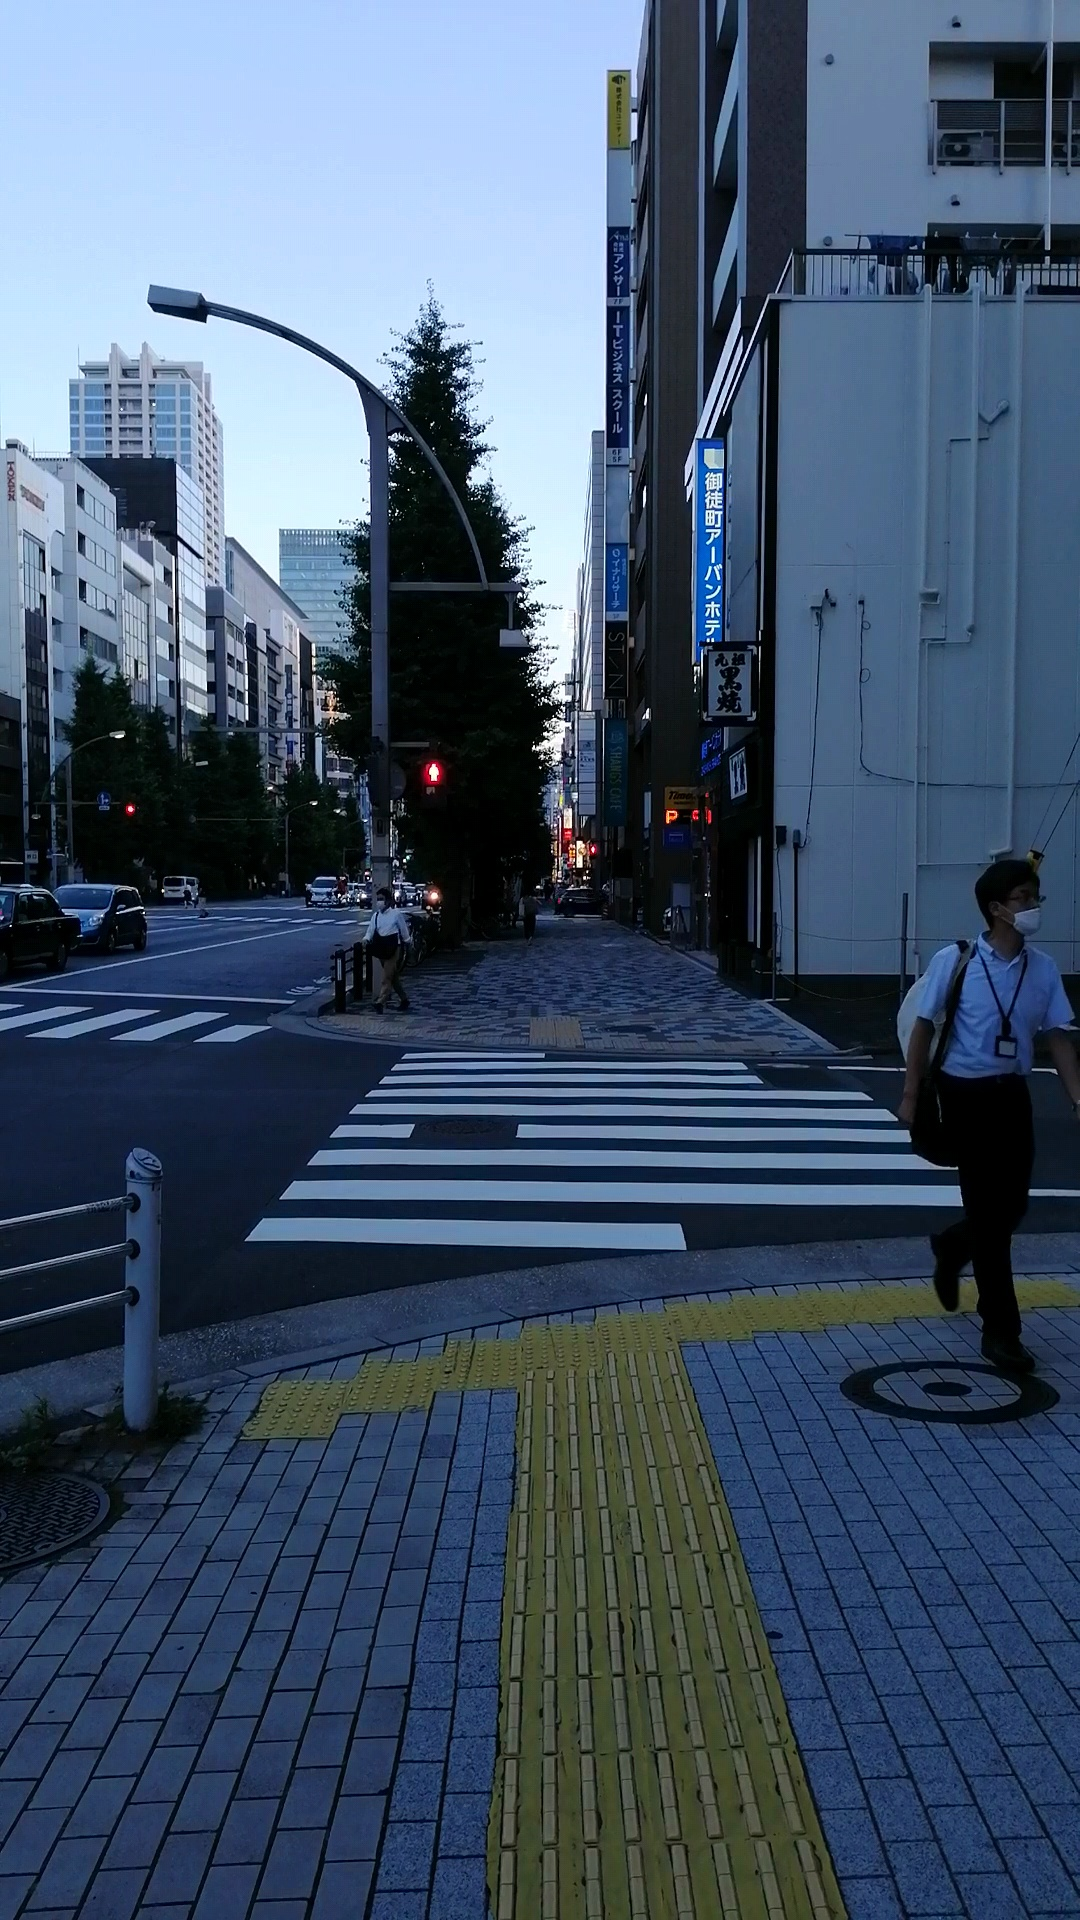red: (419, 757, 448, 814)
